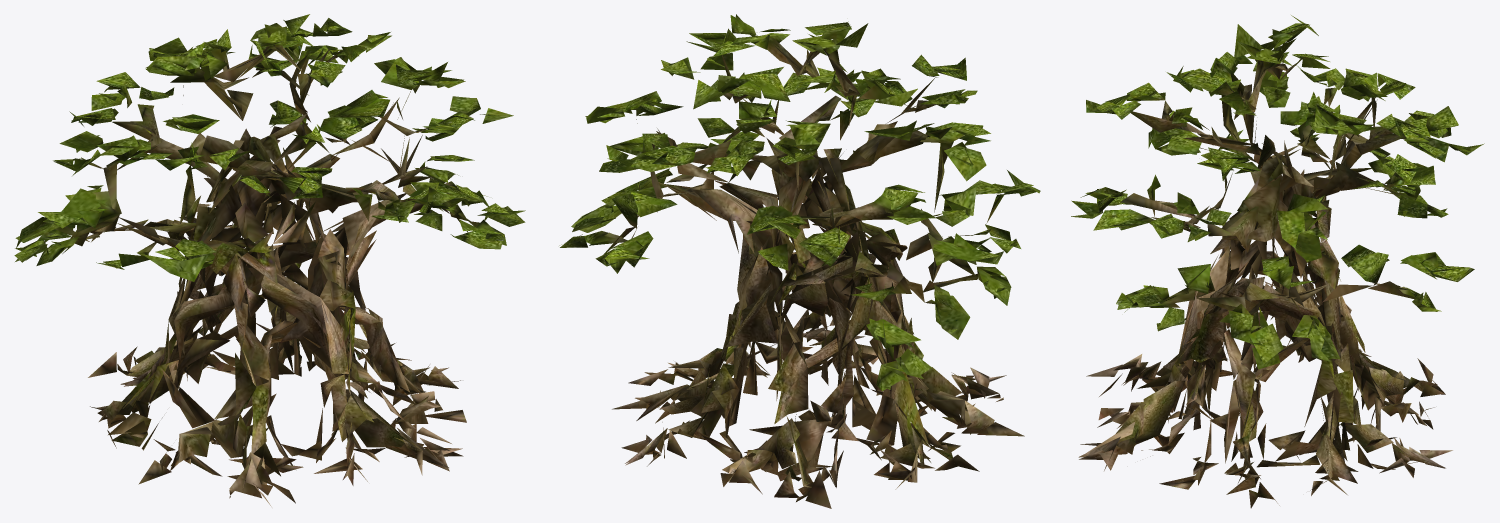
The model's file is tree_banyan.glb.
3 renders of one model, left to right at view 1: azimuth 30°, elevation 25°; view 2: azimuth 150°, elevation 25°; view 3: azimuth 270°, elevation 25°, orthographic. The views are drawn at different scales.
Visible parts, largest first — view 1: tripo_node_a9e47020-afc8-43ef-bf5c-935599dde3ba; view 2: tripo_node_a9e47020-afc8-43ef-bf5c-935599dde3ba; view 3: tripo_node_a9e47020-afc8-43ef-bf5c-935599dde3ba.
Boxes of the visible parts, x1,y1,x2,y2 form: tripo_node_a9e47020-afc8-43ef-bf5c-935599dde3ba: [14, 14, 525, 506]; tripo_node_a9e47020-afc8-43ef-bf5c-935599dde3ba: [559, 14, 1040, 508]; tripo_node_a9e47020-afc8-43ef-bf5c-935599dde3ba: [1071, 15, 1484, 508].
Size of the model in its own units: 1.14 by 1.04 by 0.9884.
1 material, 1 textured.
